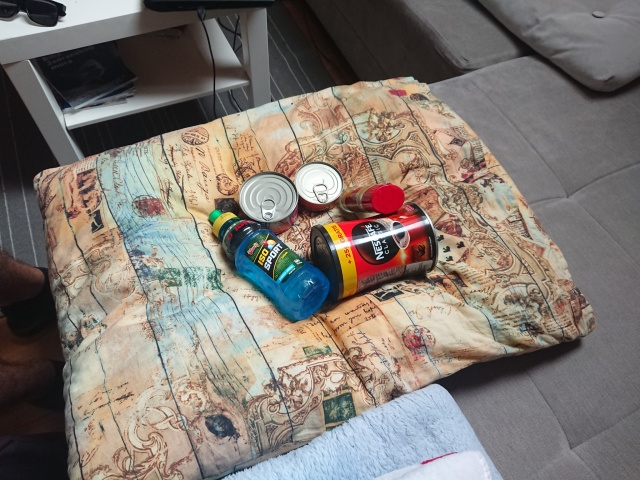Gavrilovic Pork Liver Pate 100g: (291, 159, 346, 215)
Giana Tuna Salad Mexico 185g: (237, 169, 300, 239)
Kotanyi Curry Spices Mix 70g: (337, 181, 407, 216)
Nescafe Classic 225g: (308, 199, 441, 304)
Vindi Iso Sport Forest Strawberries 500mL: (206, 208, 333, 325)
